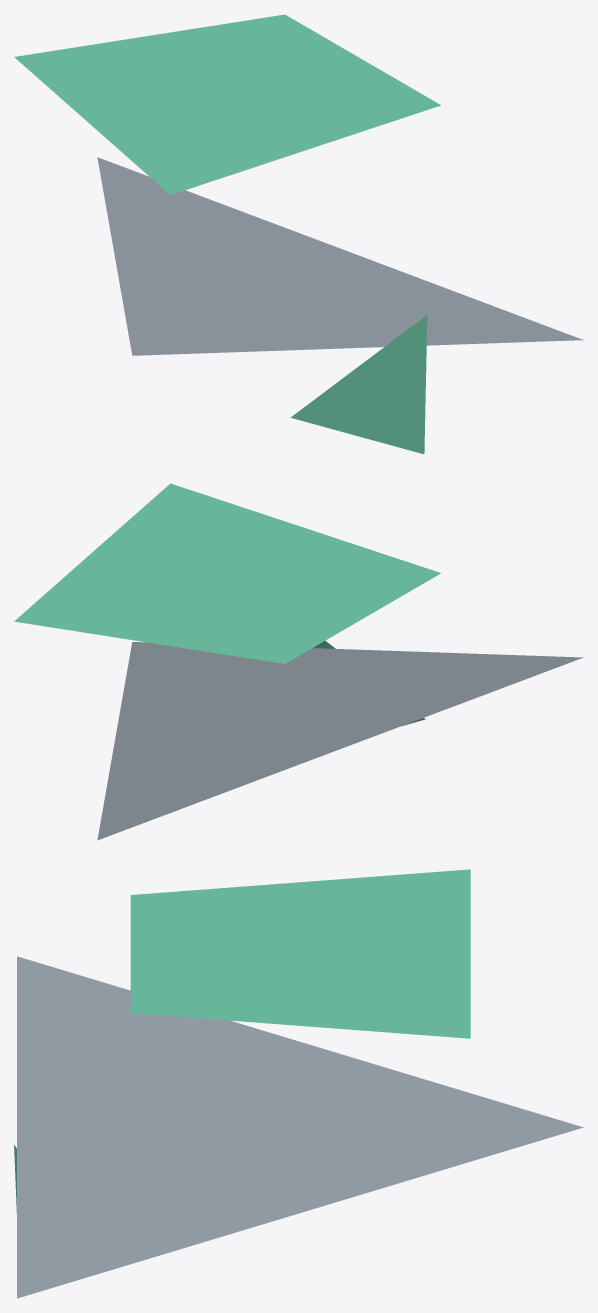
File: CO_PowerPlant_LOD2.glb
3 renders of one model, top to bottom at view 1: azimuth 30°, elevation 25°; view 2: azimuth 150°, elevation 25°; view 3: azimuth 270°, elevation 25°, orthographic. The views are drawn at different scales.
Parts seen in each view (by area): view 1: EntranceGate; view 2: EntranceGate; view 3: EntranceGate.
Boxes of the visible parts, <box> form: EntranceGate: <box>14,14,583,454</box>; EntranceGate: <box>14,483,583,840</box>; EntranceGate: <box>14,869,583,1298</box>.
Size of the model in its own units: 600 by 375 by 603.
